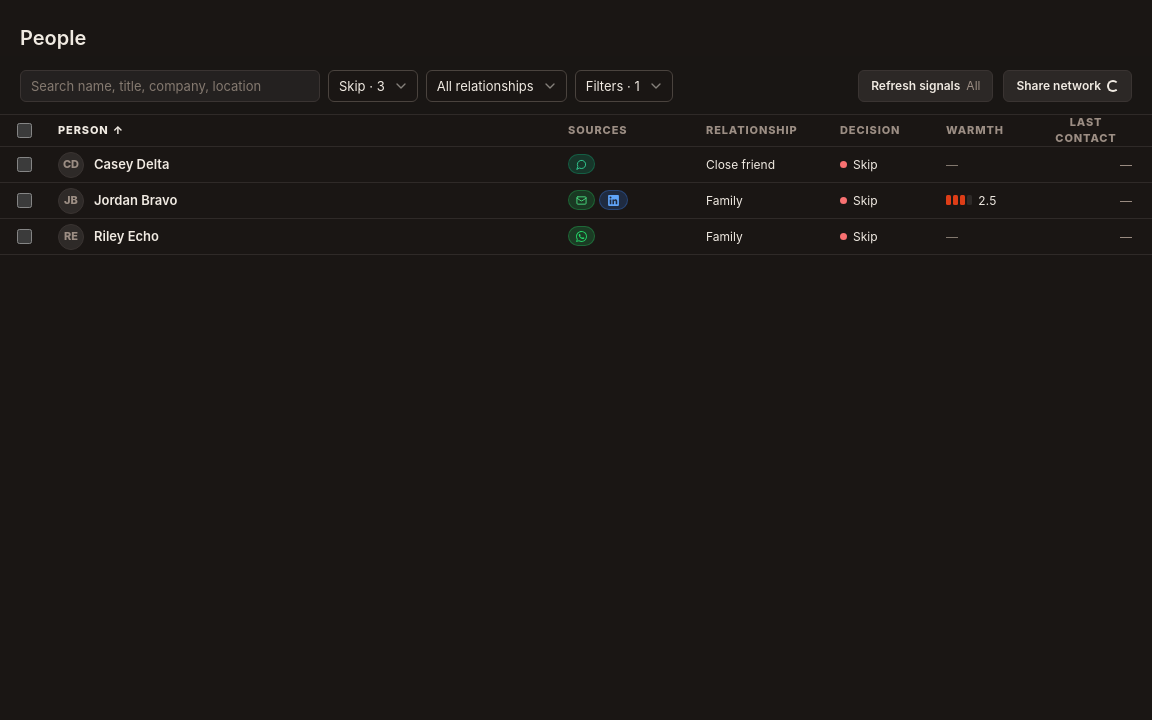
Test: PeoplePage › selects every matching person and keeps them
The width and height of the screenshot is (1152, 720).
Click the checkbox named "Select all 3 matching people" at (24, 131), box x1=16 y1=123 x2=32 y2=138
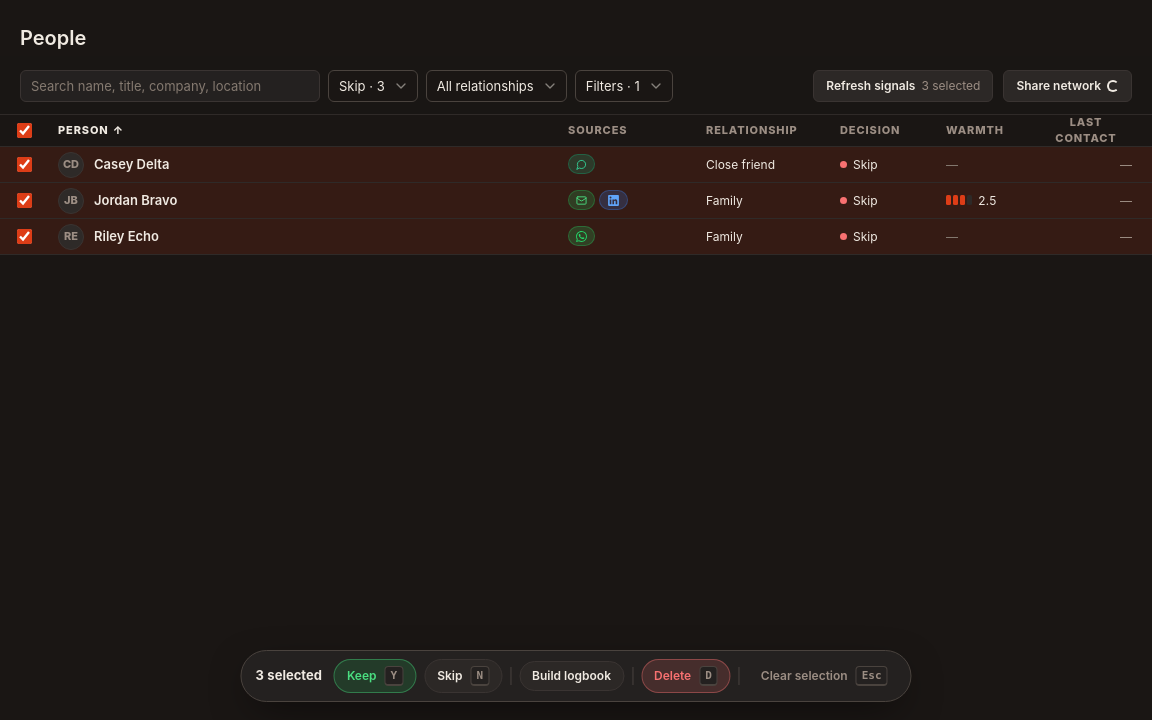
Now the 2nd text "3 selected" is shown, box x1=256 y1=666 x2=322 y2=685
Click the button "Keep Y" at (375, 676), box x1=334 y1=659 x2=416 y2=693
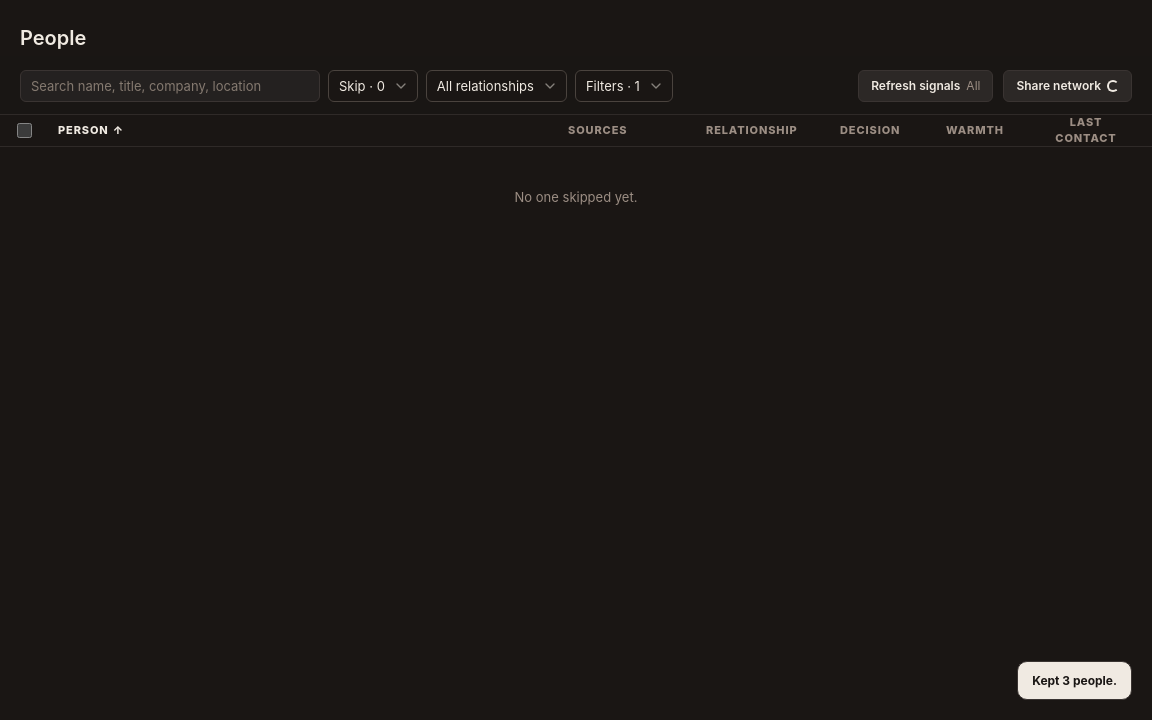
Now the text "Kept 3 people." is shown, box x1=1032 y1=672 x2=1117 y2=689
Now the text "No one skipped yet." is shown, box x1=515 y1=187 x2=638 y2=208
